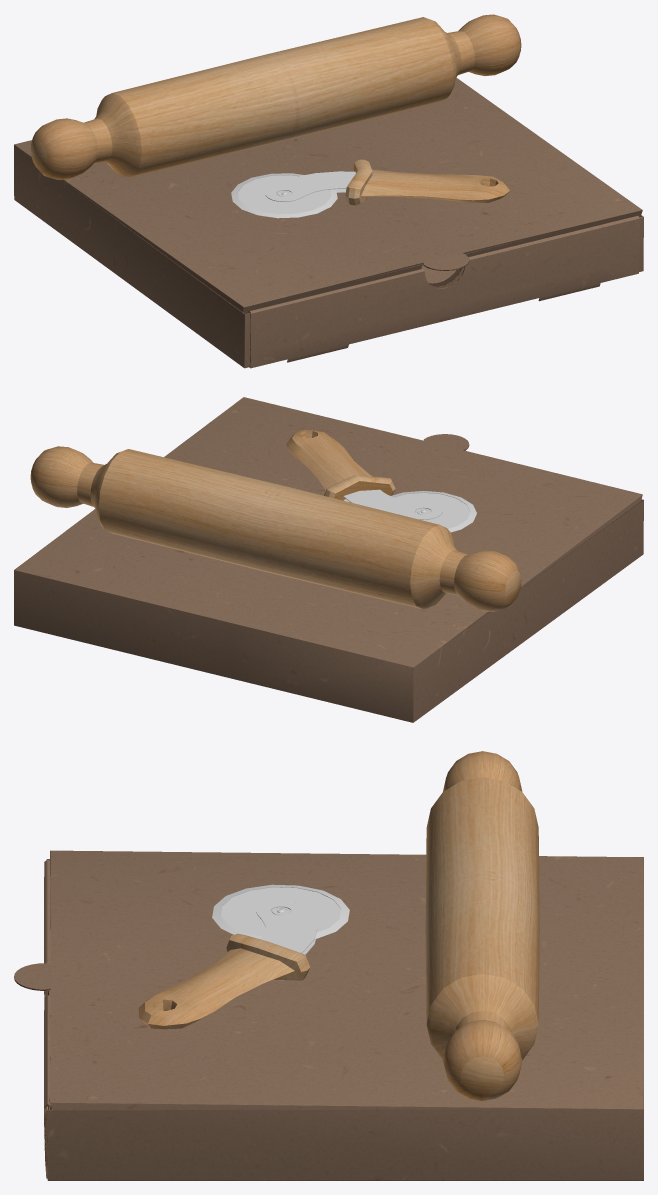
The model's file is pizza_box_rolling_pin_pizza_cutter.glb.
The picture shows the model from 3 angles, top to bottom: view 1: azimuth 30°, elevation 25°; view 2: azimuth 150°, elevation 25°; view 3: azimuth 270°, elevation 25°; orthographic projection. The views are drawn at different scales.
Parts seen in each view (by area): view 1: PizzaBox_ModelMain_2, RollingPin_ModelMain_0, PizzaCutter_ModelMain_1; view 2: PizzaBox_ModelMain_2, RollingPin_ModelMain_0, PizzaCutter_ModelMain_1; view 3: PizzaBox_ModelMain_2, RollingPin_ModelMain_0, PizzaCutter_ModelMain_1.
Part boxes in pixels (x1,y1,x2,y2): PizzaBox_ModelMain_2: [14, 77, 643, 368]; RollingPin_ModelMain_0: [30, 14, 521, 179]; PizzaCutter_ModelMain_1: [231, 159, 509, 218]; PizzaBox_ModelMain_2: [14, 397, 643, 722]; RollingPin_ModelMain_0: [30, 446, 521, 611]; PizzaCutter_ModelMain_1: [286, 430, 476, 532]; PizzaBox_ModelMain_2: [14, 850, 643, 1180]; RollingPin_ModelMain_0: [425, 751, 539, 1101]; PizzaCutter_ModelMain_1: [138, 884, 349, 1029].
Bounding box in the file's own units: 0.3416 × 0.0985 × 0.3003.
Materials: 3 (2 with a texture image).
